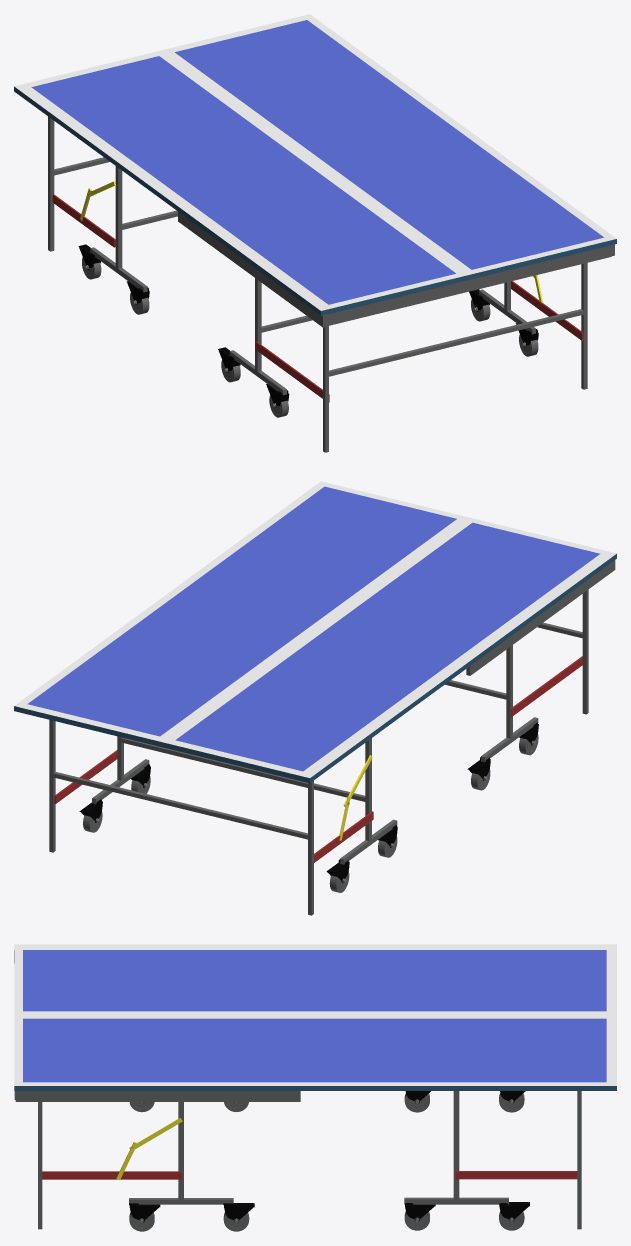
Rendered from MesaPingPong_FaustoC_46956630.fbx.
3 views of the same model, one above another, from view 1: azimuth 30°, elevation 25°; view 2: azimuth 150°, elevation 25°; view 3: azimuth 270°, elevation 25° (orthographic).
Parts seen in each view (by area): view 1: Mesa de ping pong; view 2: Mesa de ping pong; view 3: Mesa de ping pong.
Part boxes in pixels (bbox=[...]): Mesa de ping pong: bbox=[14, 14, 616, 452]; Mesa de ping pong: bbox=[14, 481, 616, 915]; Mesa de ping pong: bbox=[14, 944, 616, 1231].
Size of the model in its own units: 128 by 65.43 by 230.
Materials: 3 (3 with a texture image).
